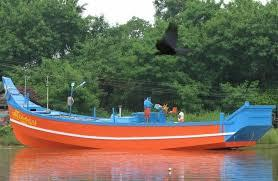fishing boat: (1, 74, 278, 152)
